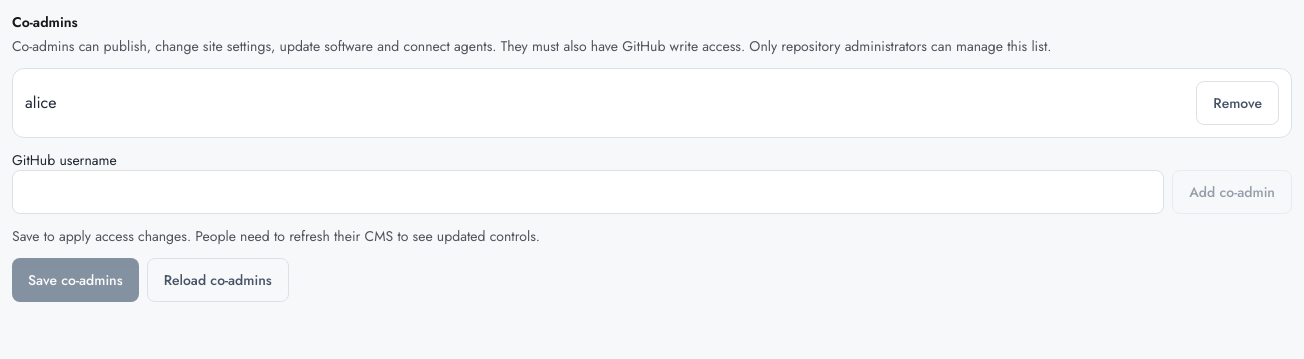
Test: API conflicts preserve edits without claiming they were saved
Click the button with aria-label "Remove alice": point(1238, 103) [1196,81,1279,125]
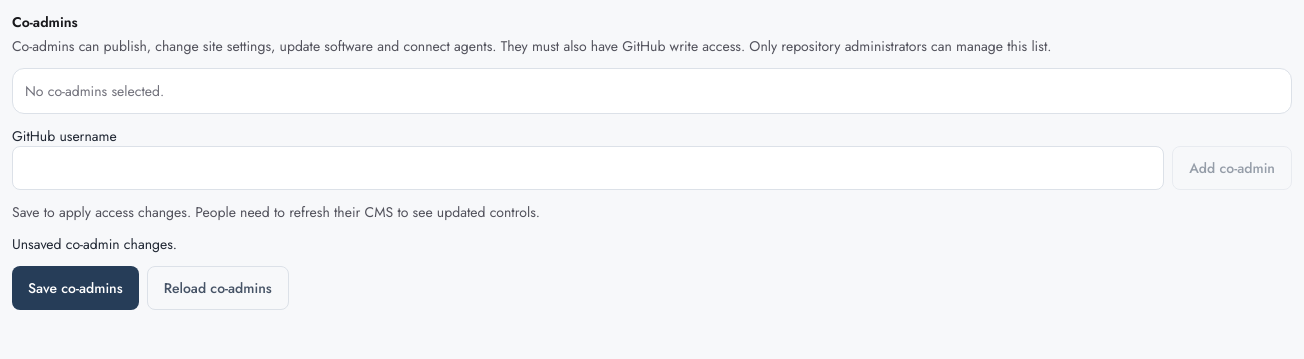
Click the button "Save co-admins": point(75, 288) [12,266,139,310]
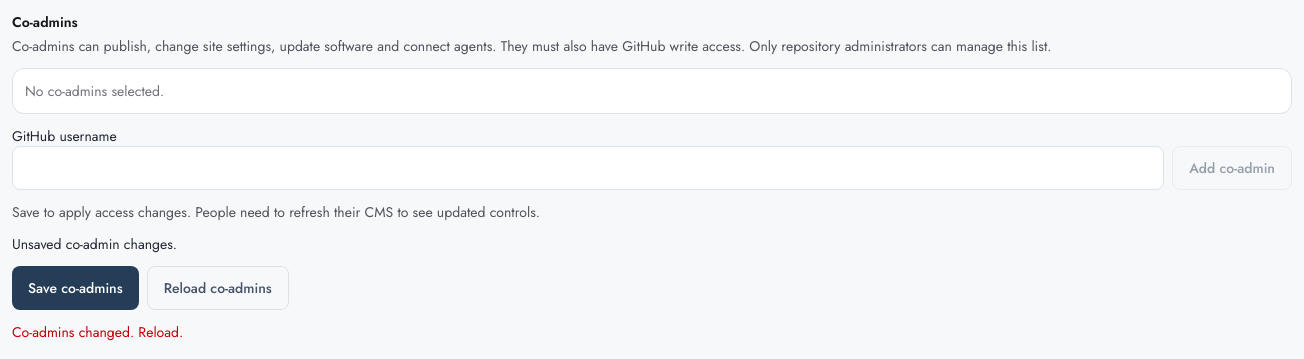
expect the text "Unsaved co-admin changes" is shown: met, box [12,234,177,254]
expect the text "No co-admins selected" is shown: met, box [25,81,164,101]
expect the message "Co-admins changed. Reload." is shown: met, box [12,322,183,342]
